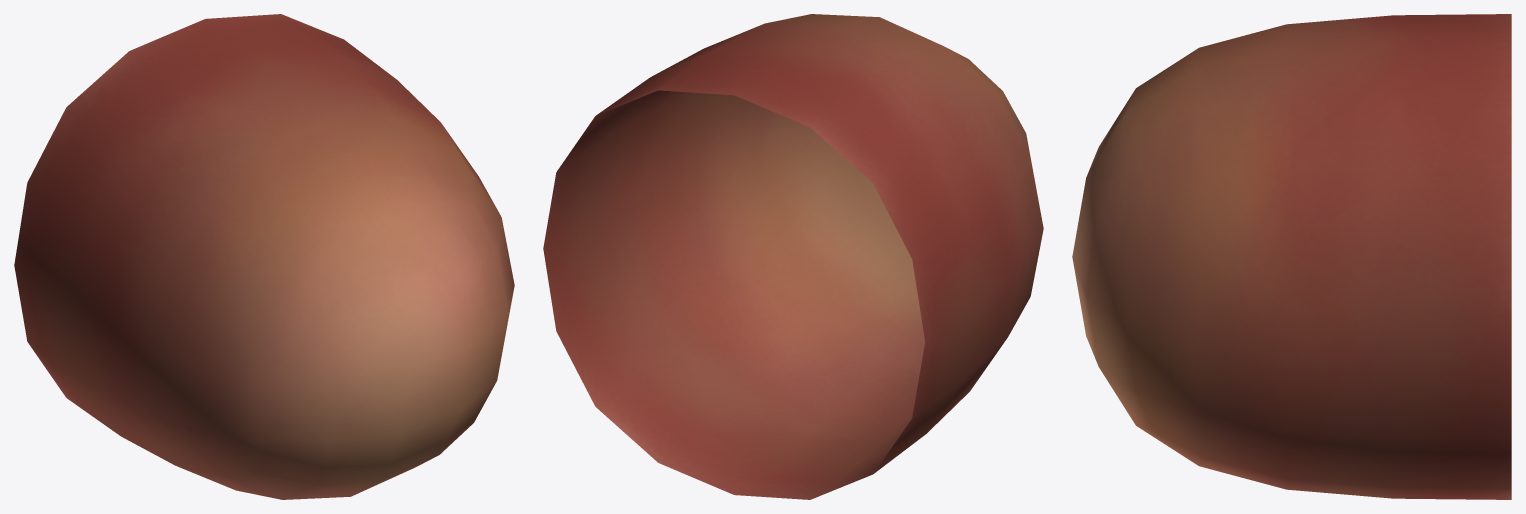
The model's file is FBX_Pimple_01.fbx.
The picture shows the model from 3 angles, left to right: view 1: azimuth 30°, elevation 25°; view 2: azimuth 150°, elevation 25°; view 3: azimuth 270°, elevation 25°; orthographic projection. The views are drawn at different scales.
Parts seen in each view (by area): view 1: Pimple; view 2: Pimple; view 3: Pimple.
Boxes of the visible parts, x1,y1,x2,y2 form: Pimple: (14,14,514,499); Pimple: (543,14,1043,499); Pimple: (1072,14,1511,499).
Size of the model in its own units: 100 by 100 by 91.98.
